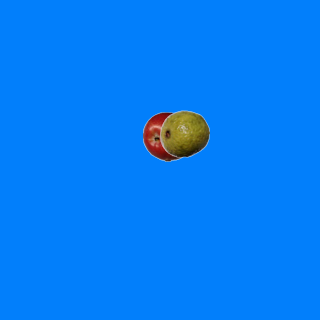Apple Braeburn: (142, 111, 192, 161)
Guava: (159, 108, 209, 158)
